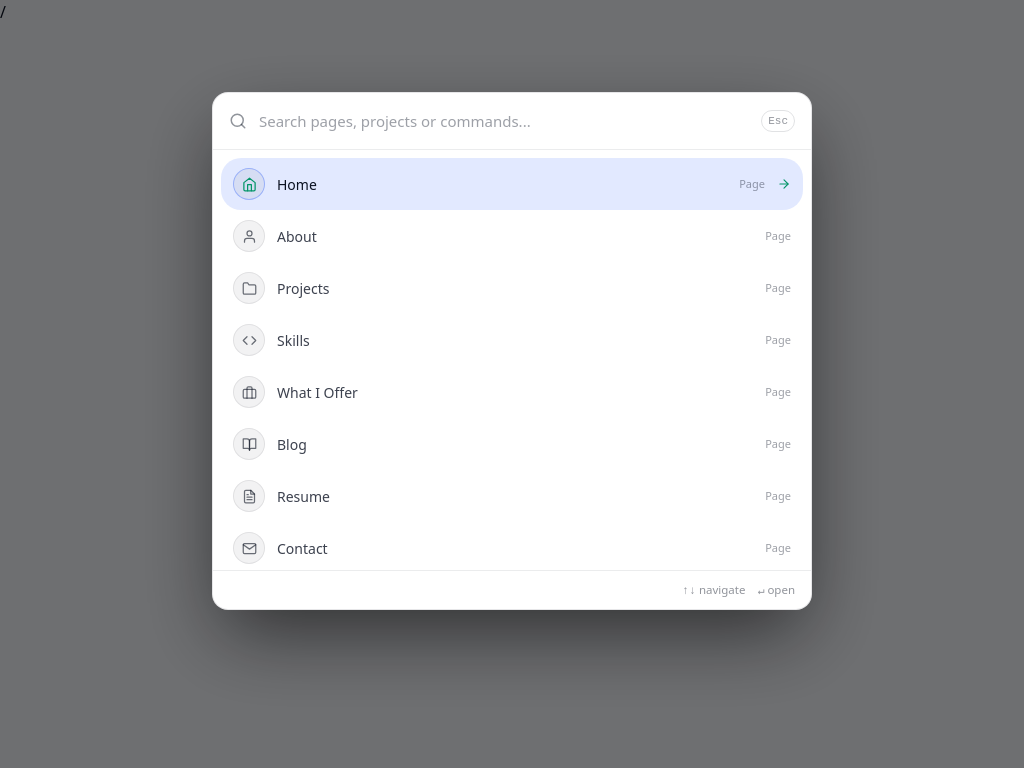
CommandPalette › finds projects by name and shows an empty state
The width and height of the screenshot is (1024, 768).
Step 1. Type "zukko crm" into the dropdown → (504,121), box x1=259 y1=93 x2=749 y2=149
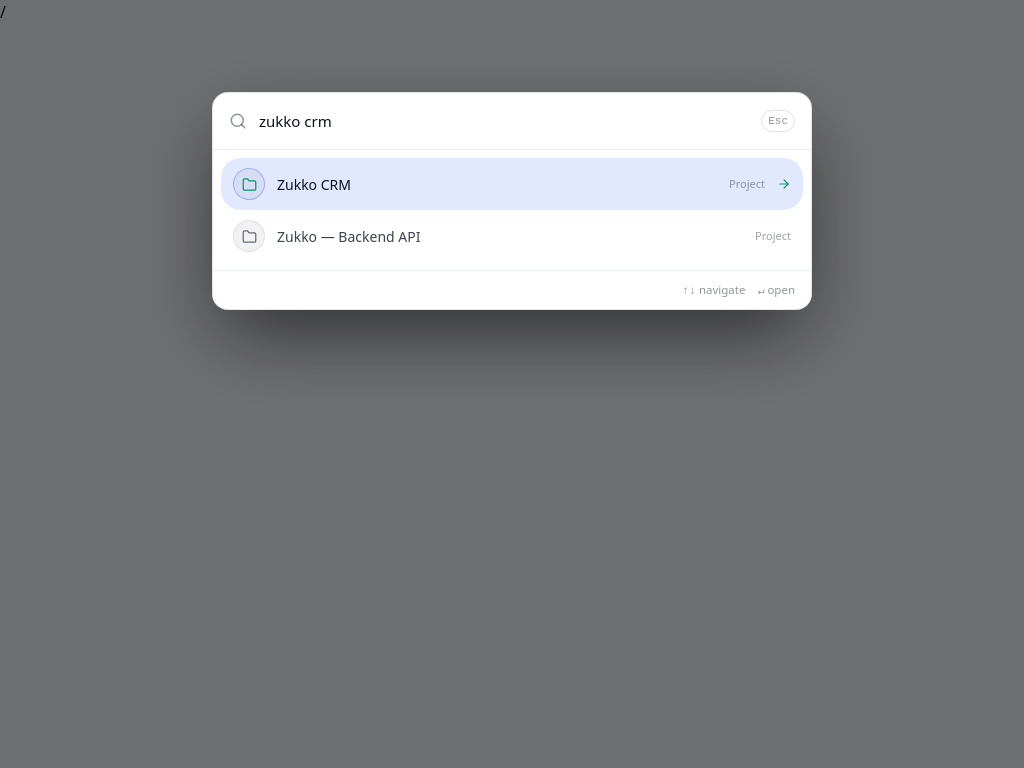
Check: the option "Zukko CRM Project" is shown, box x1=221 y1=158 x2=803 y2=210
Step 2. Replace the text in the dropdown with "qqqqqqqq" → (504,121), box x1=259 y1=93 x2=749 y2=149
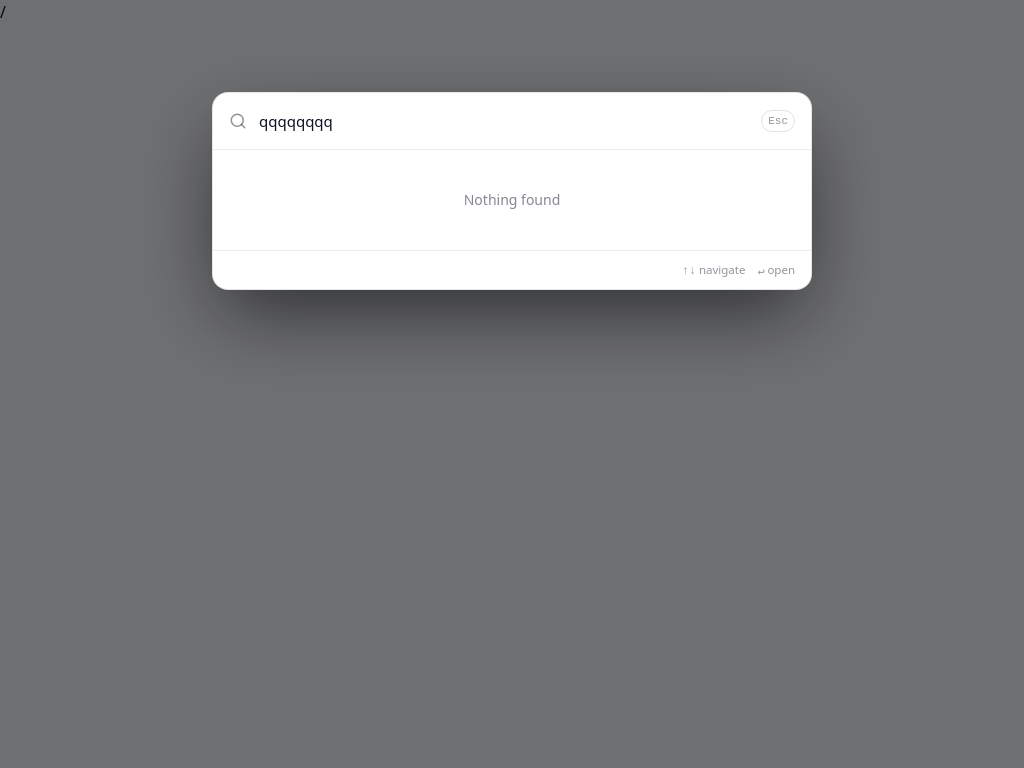
Check: no options are shown
Check: the list item "Nothing found" is shown, box x1=464 y1=190 x2=560 y2=209
